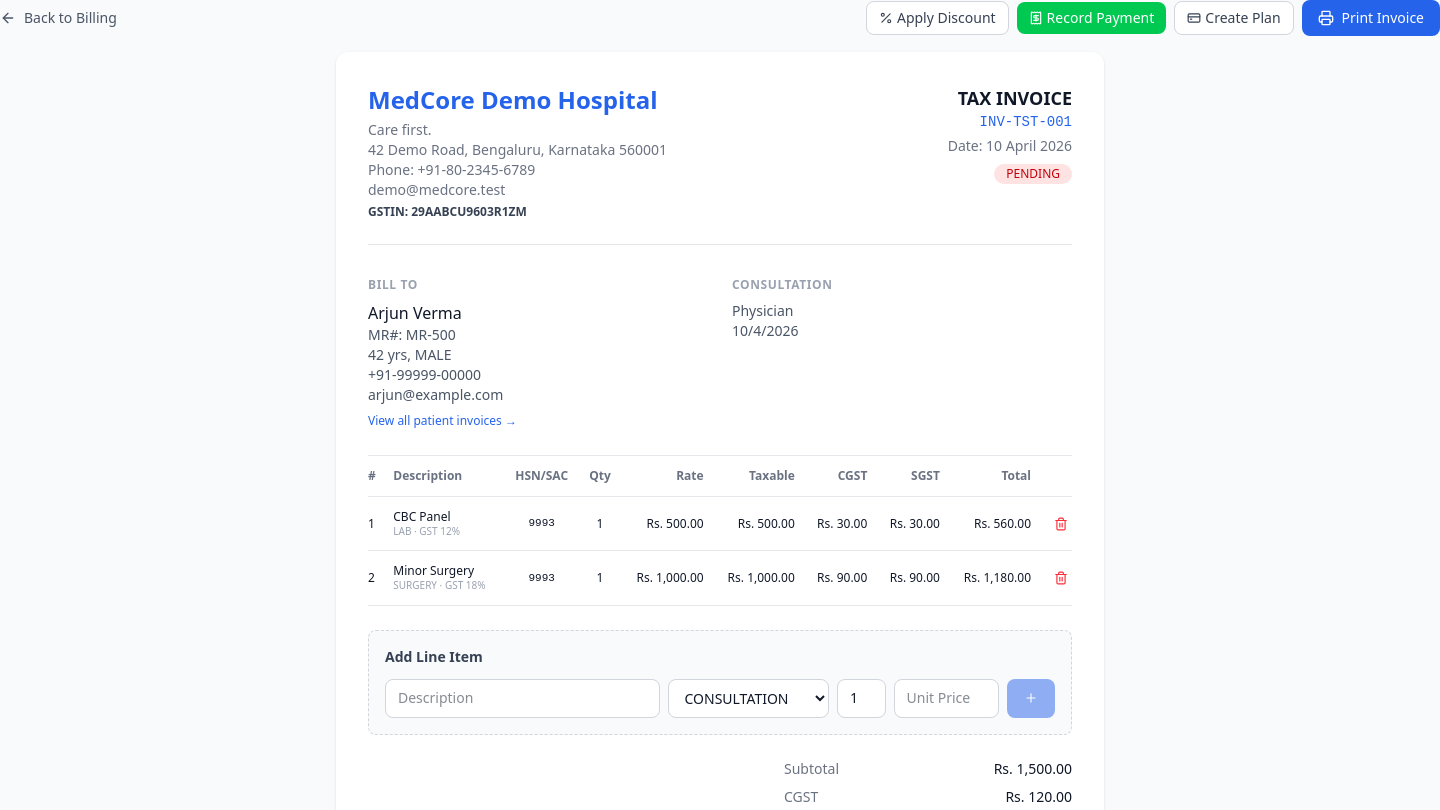
InvoiceDetailPage — Issue #223 (per-field validation errors) › renders zod field-level messages from /billing/payments instead of a single generic toast
This screenshot has width=1440, height=810.
Check: the text "INV-TST-001" is shown, box x1=980 y1=114 x2=1072 y2=130
Click the button "Record Payment": (1091, 18) x1=1017 y1=2 x2=1166 y2=34
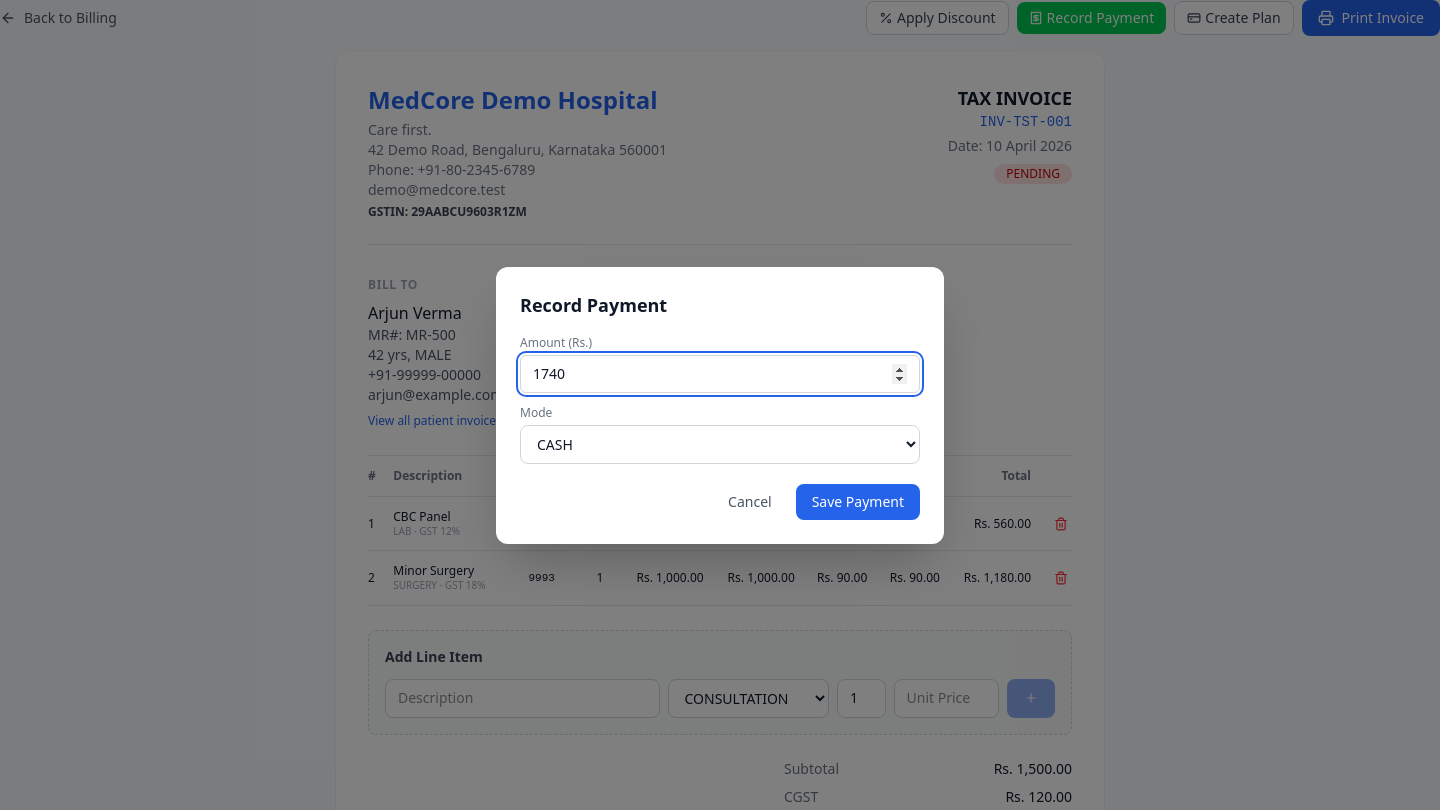
Check: the number field with test id "payment-amount" is shown, box x1=520 y1=354 x2=920 y2=392
Click the button "Save Payment": (858, 502) x1=796 y1=484 x2=920 y2=520
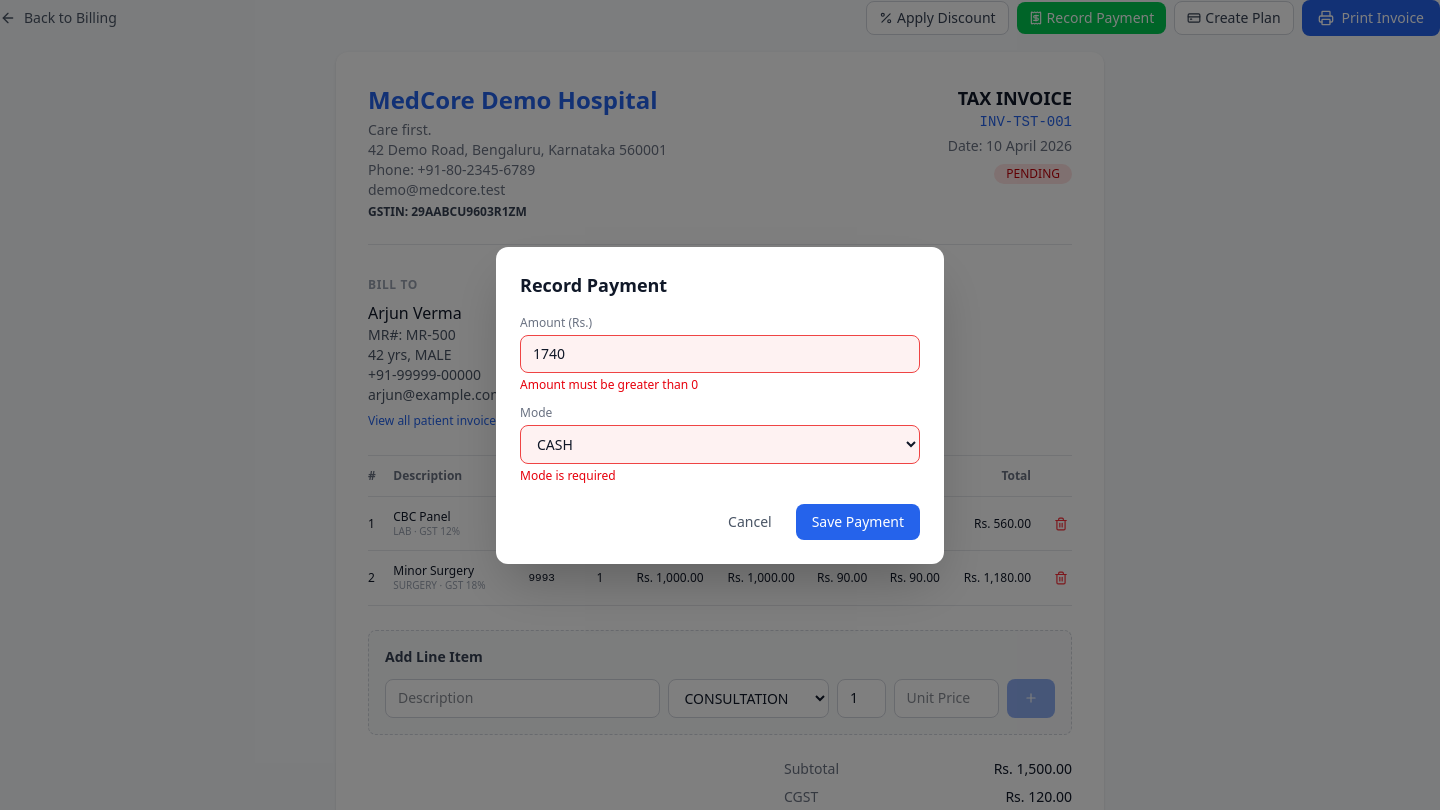
Check: the text with test id "error-payment-amount" reads "Amount must be greater than 0", box x1=520 y1=376 x2=698 y2=392
Check: the text with test id "error-payment-mode" reads "Mode is required", box x1=520 y1=466 x2=616 y2=484
